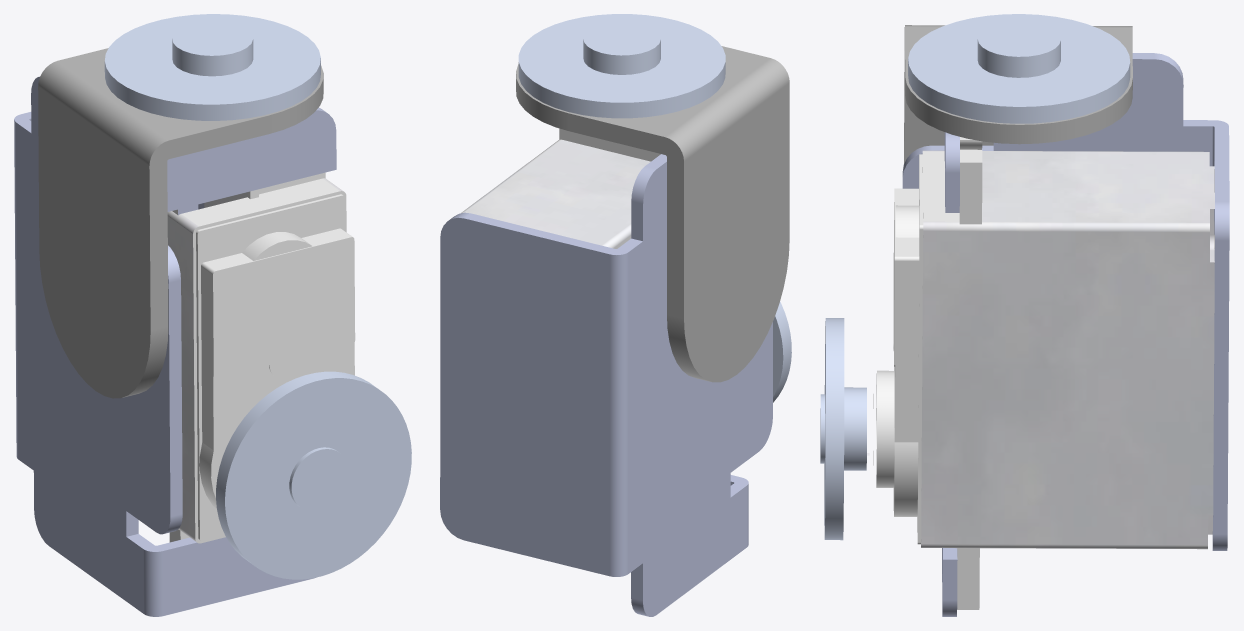
Rendered from r_elbow_link.dae.
3 renders of one model, left to right at view 1: azimuth 30°, elevation 25°; view 2: azimuth 150°, elevation 25°; view 3: azimuth 270°, elevation 25°, orthographic. The views are drawn at different scales.
Visible parts, largest first — view 1: Actor0; view 2: Actor0; view 3: Actor0.
Boxes of the visible parts, x1,y1,x2,y2 form: Actor0: [14, 14, 411, 616]; Actor0: [440, 14, 791, 616]; Actor0: [820, 14, 1229, 616].
Size of the model in its own units: 0.0288 by 0.0649 by 0.0442.
Materials: 7 (2 with a texture image).
